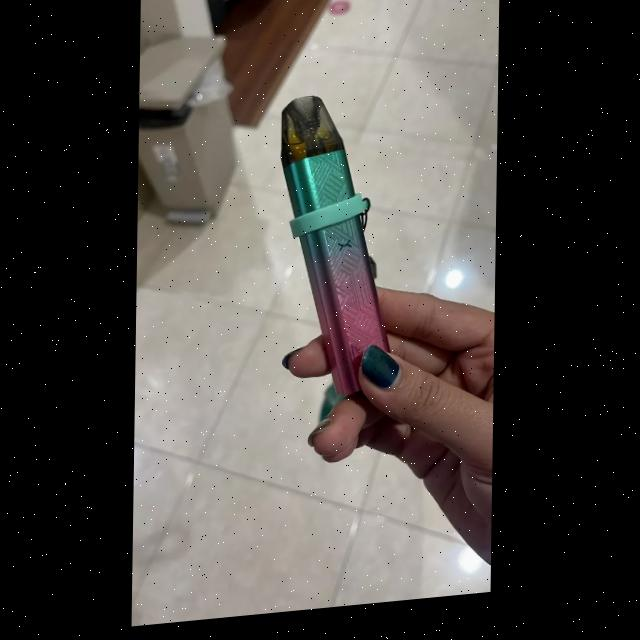vape: (277, 95, 396, 412)
